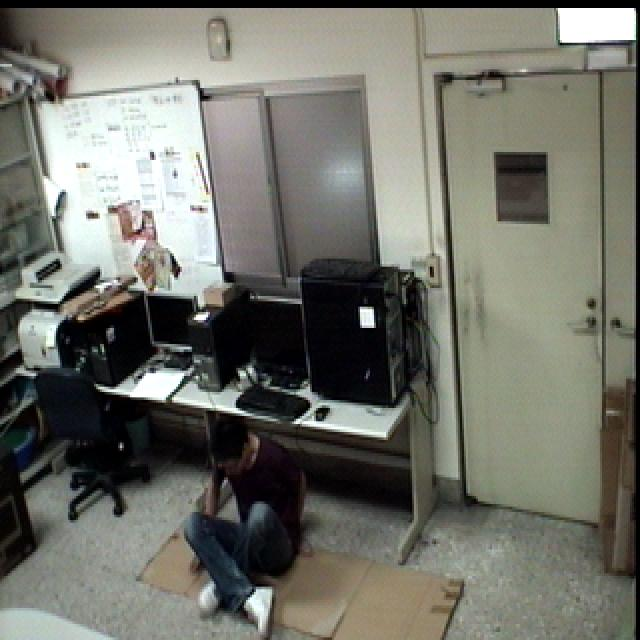sit: (174, 410, 318, 639)
